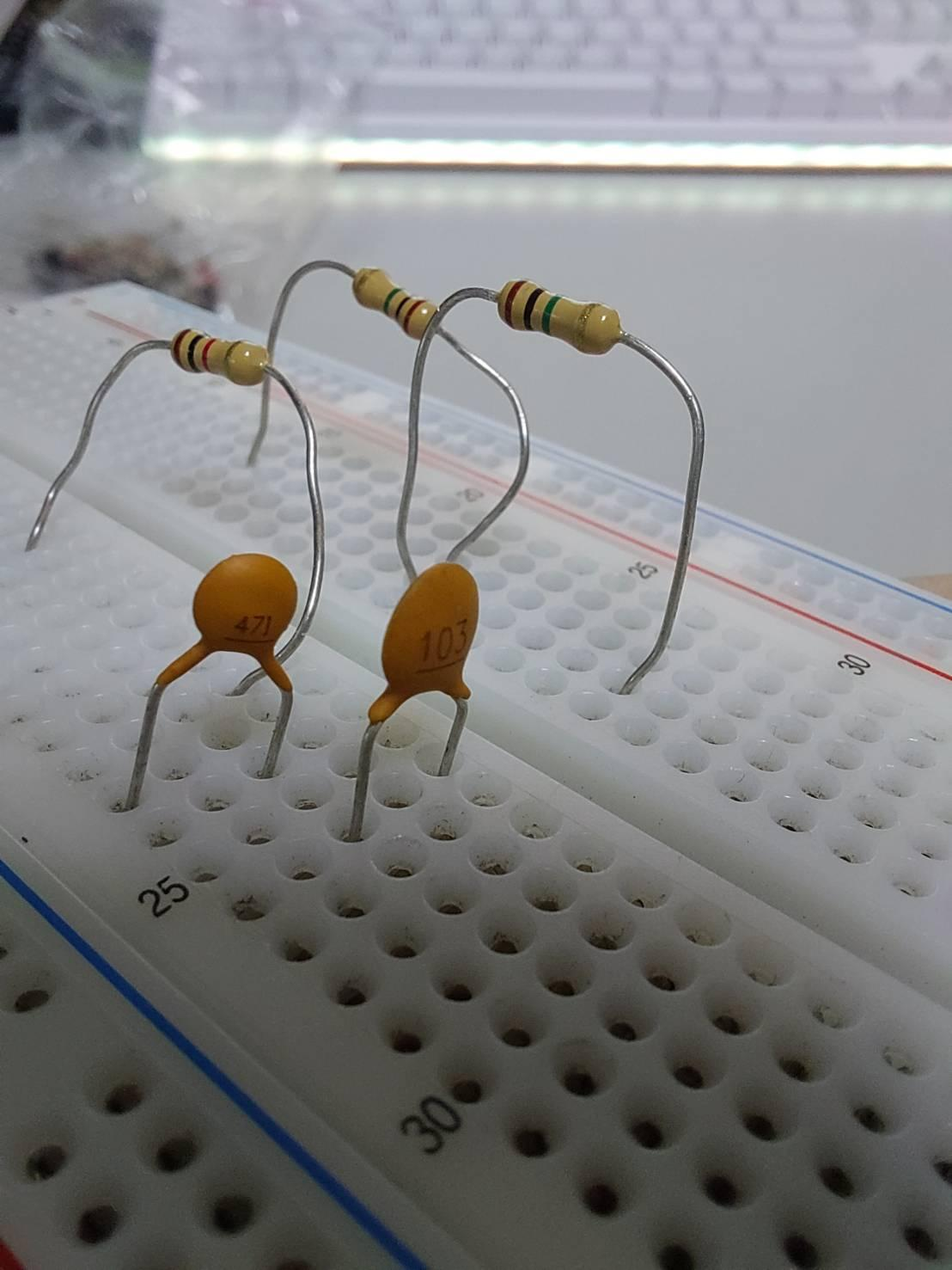resistor: (493, 278, 624, 359), (339, 260, 446, 339), (169, 312, 271, 393)
